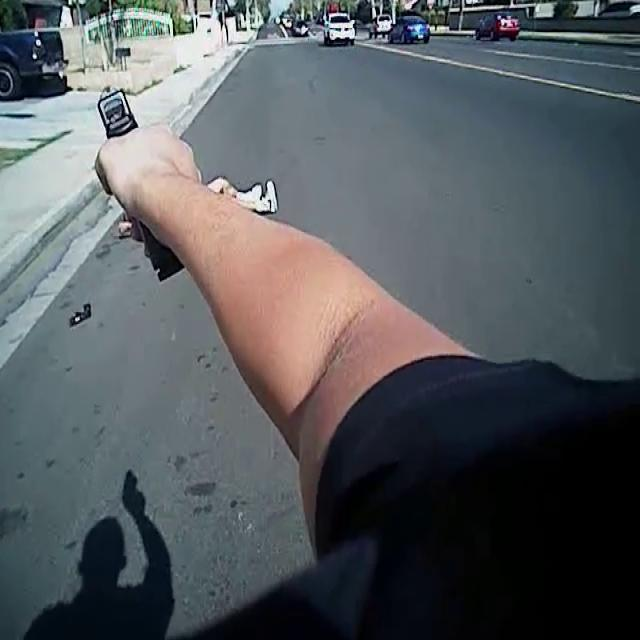gun: (42, 60, 238, 310)
